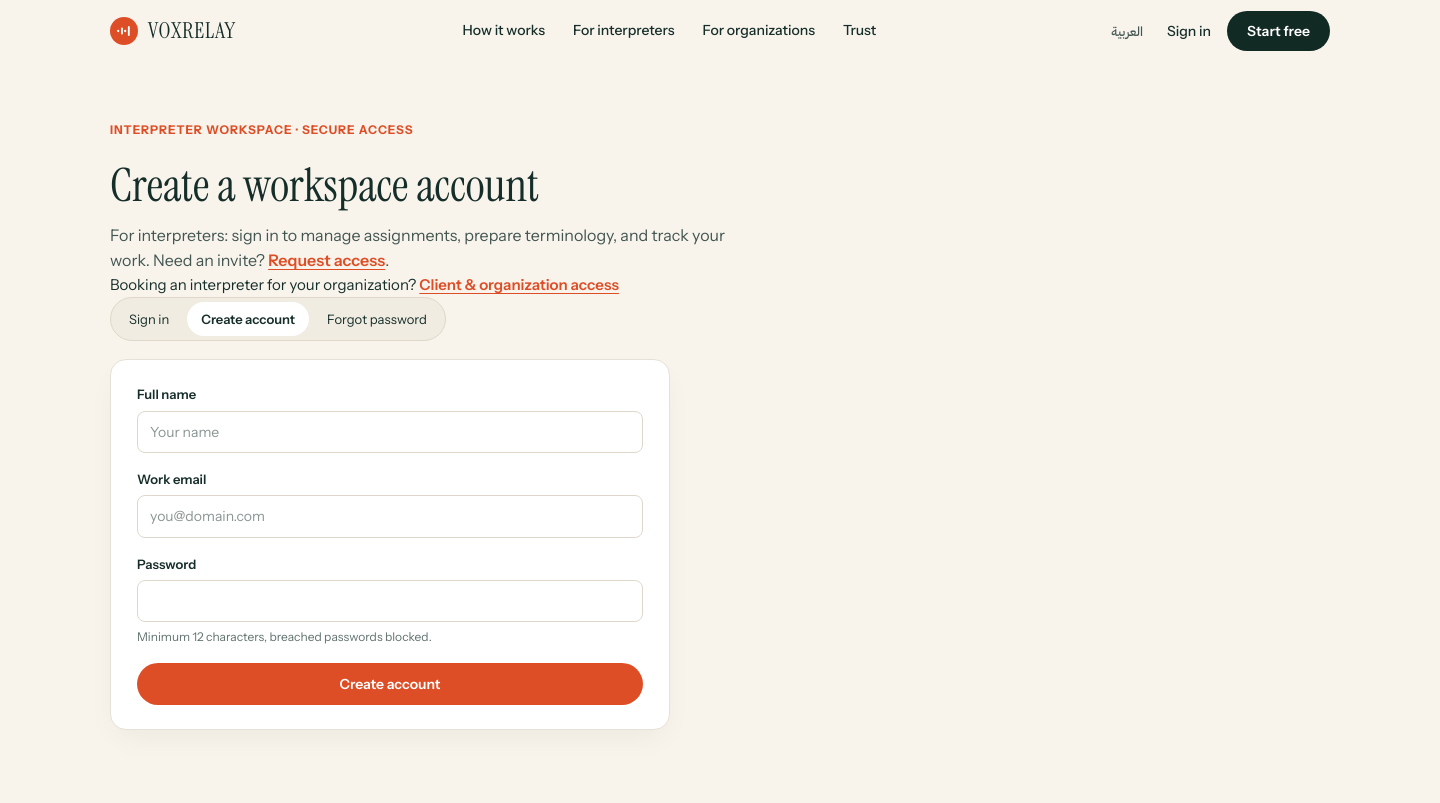
Test: Auth.tsx frontend fail-closed behavior against /api/auth rate limits & 5xx responses › does not fall back to supabase.auth.signUp() or supabase.auth.resend() when /api/auth returns 429
This screenshot has width=1440, height=803.
Type "ratelimited@clinic.org" into the field labelled "Work email" at [390, 517], box left=137, top=496, right=643, bottom=538
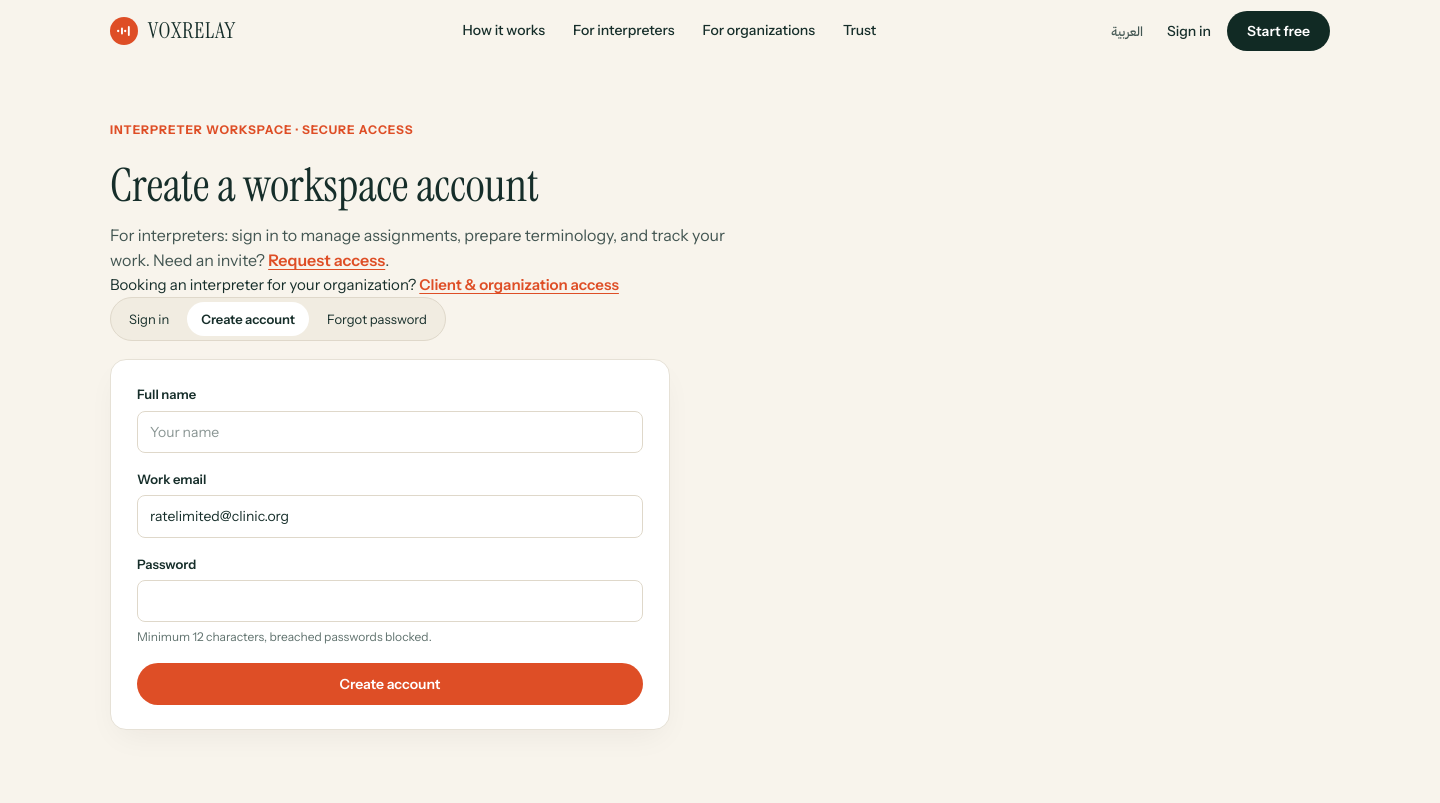
Type "ValidStrongPassword123!" into the password field labelled "Password" at [390, 601], box left=137, top=580, right=643, bottom=622
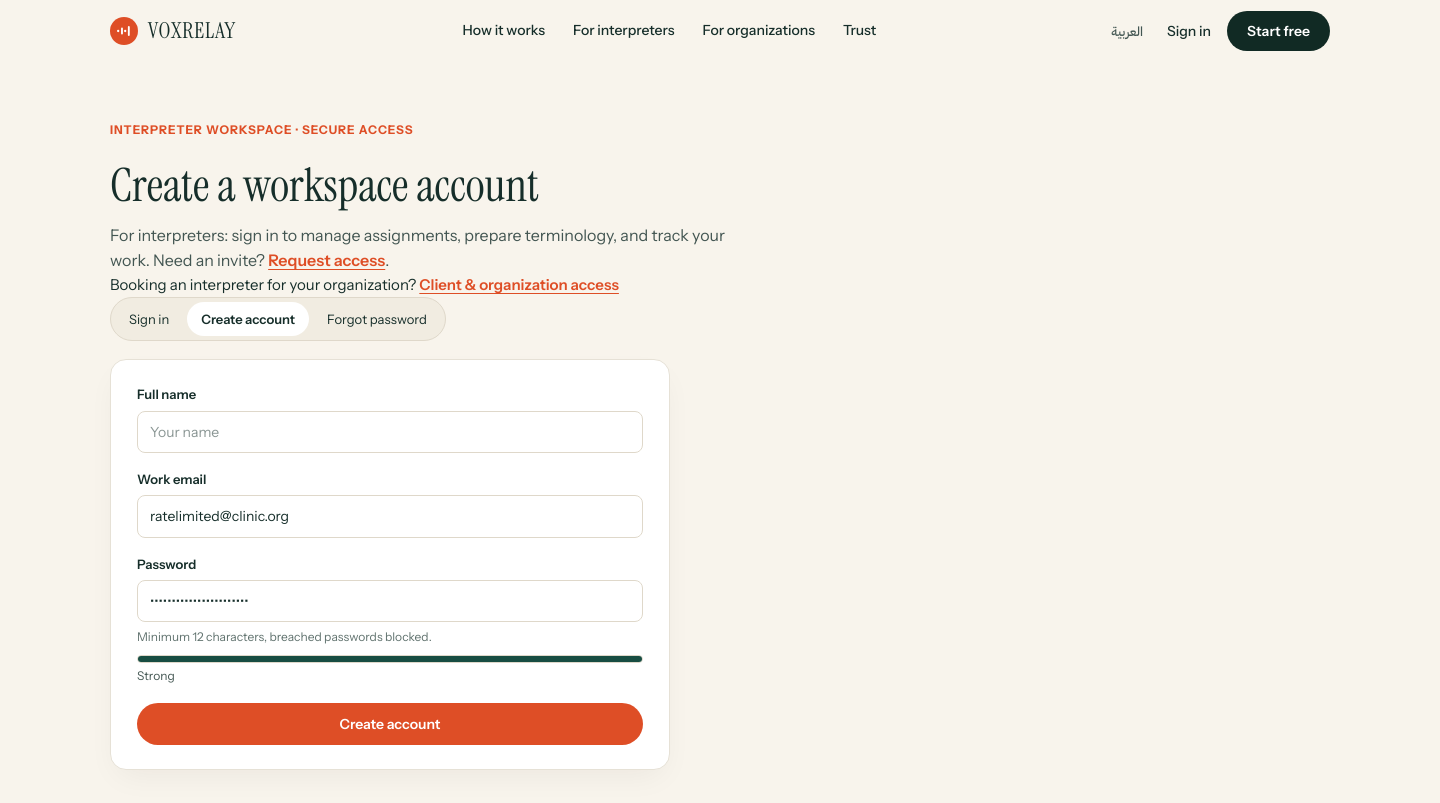
Click the button "Create account" below "Strong" at [390, 724], box left=137, top=703, right=643, bottom=745
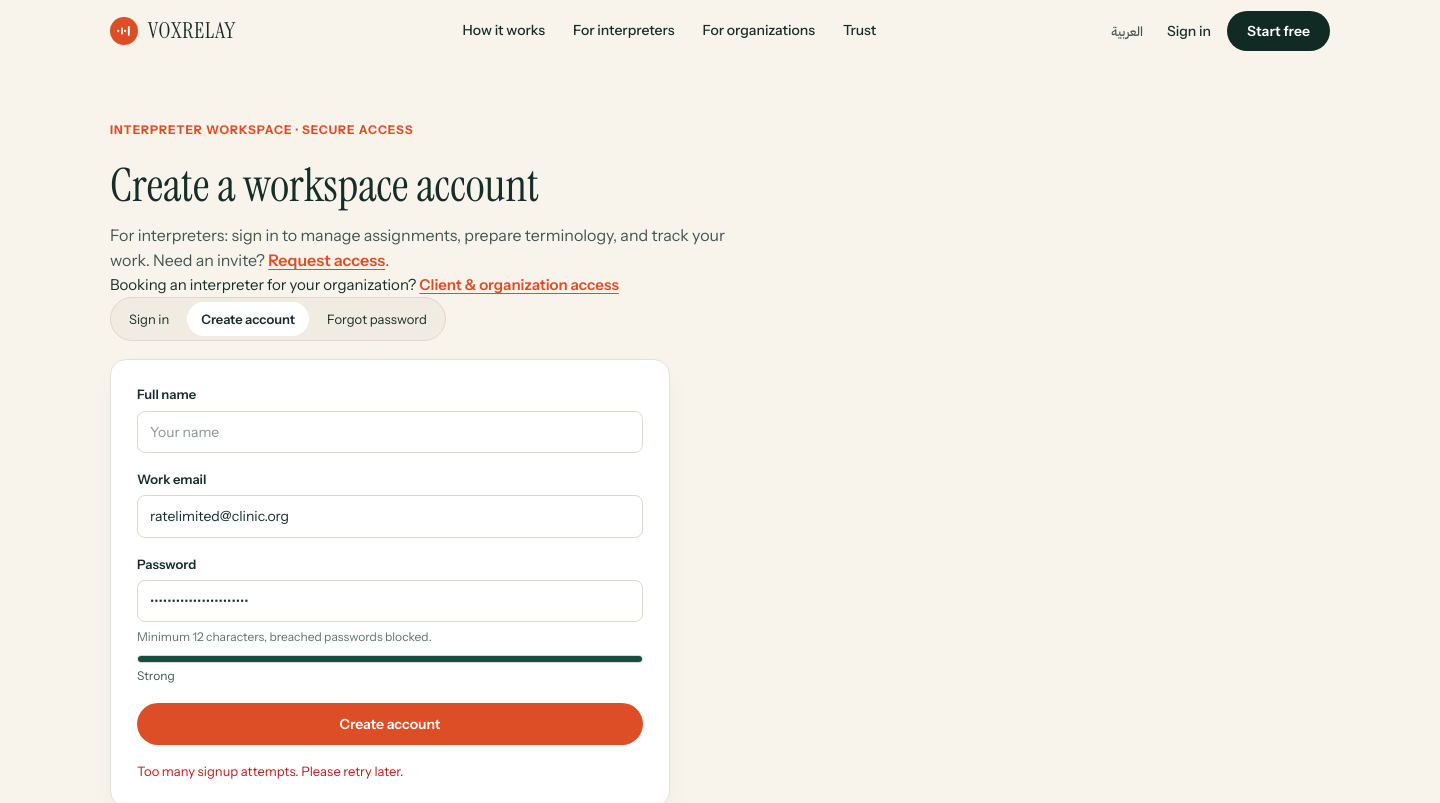
Expected: the message shows "Too many signup attempts", left=137, top=763, right=403, bottom=779
Click the button "Create account" below "Strong" at [390, 724], box left=137, top=703, right=643, bottom=745
(page scrolled)
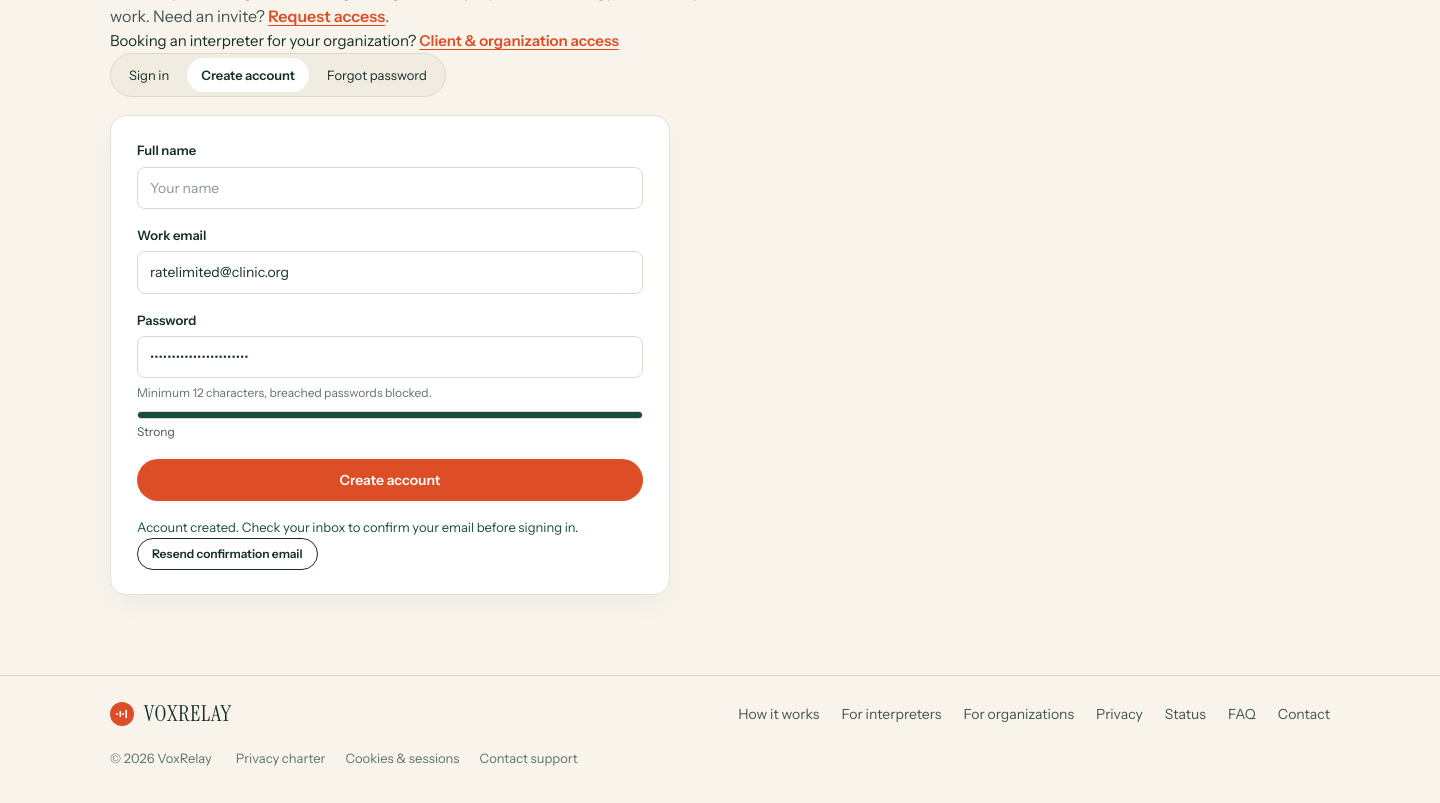
Expected: the button "Resend confirmation email" is shown
Click the button "Resend confirmation email" at [227, 554], box left=137, top=538, right=318, bottom=570
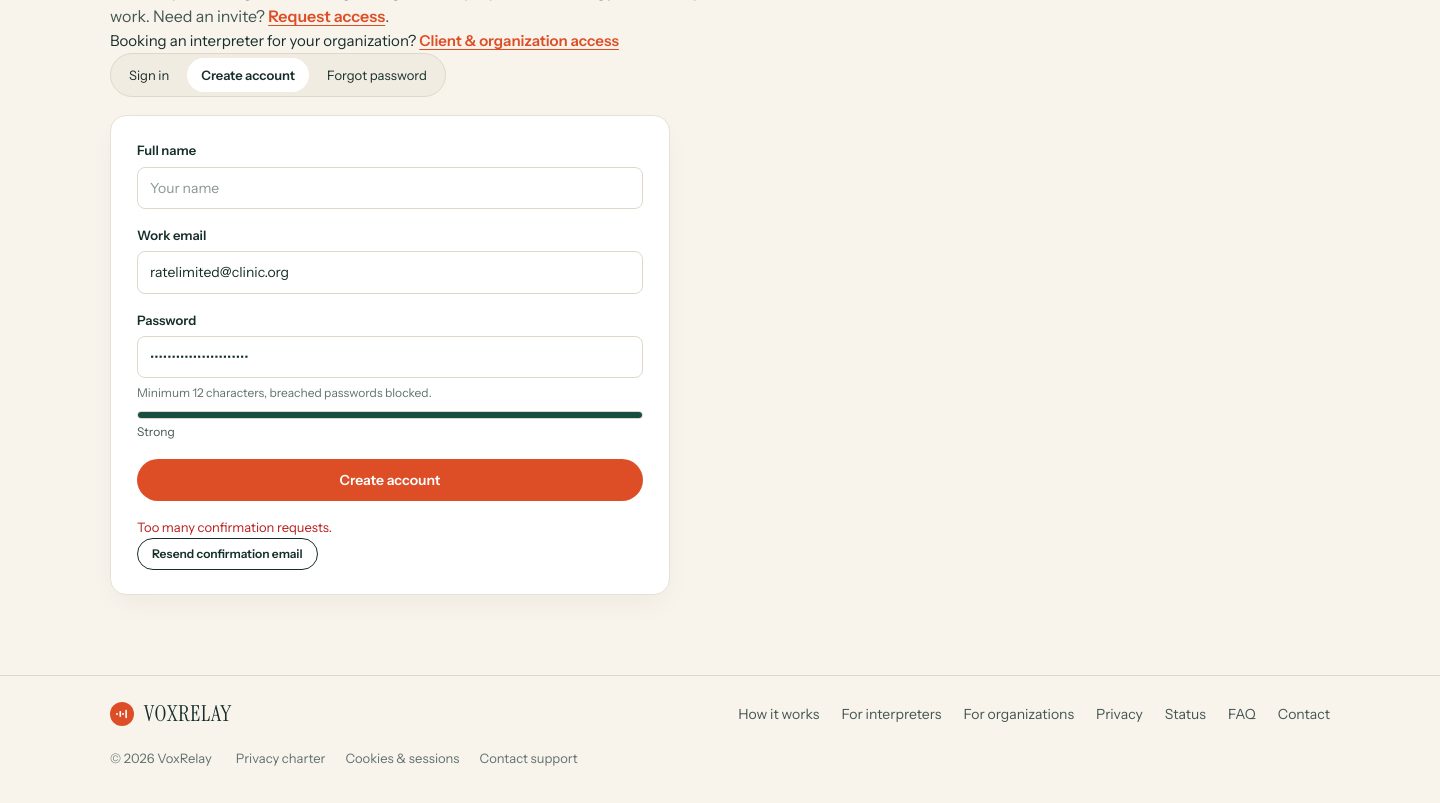
Expected: the message shows "Too many confirmation requests", left=137, top=519, right=332, bottom=535
